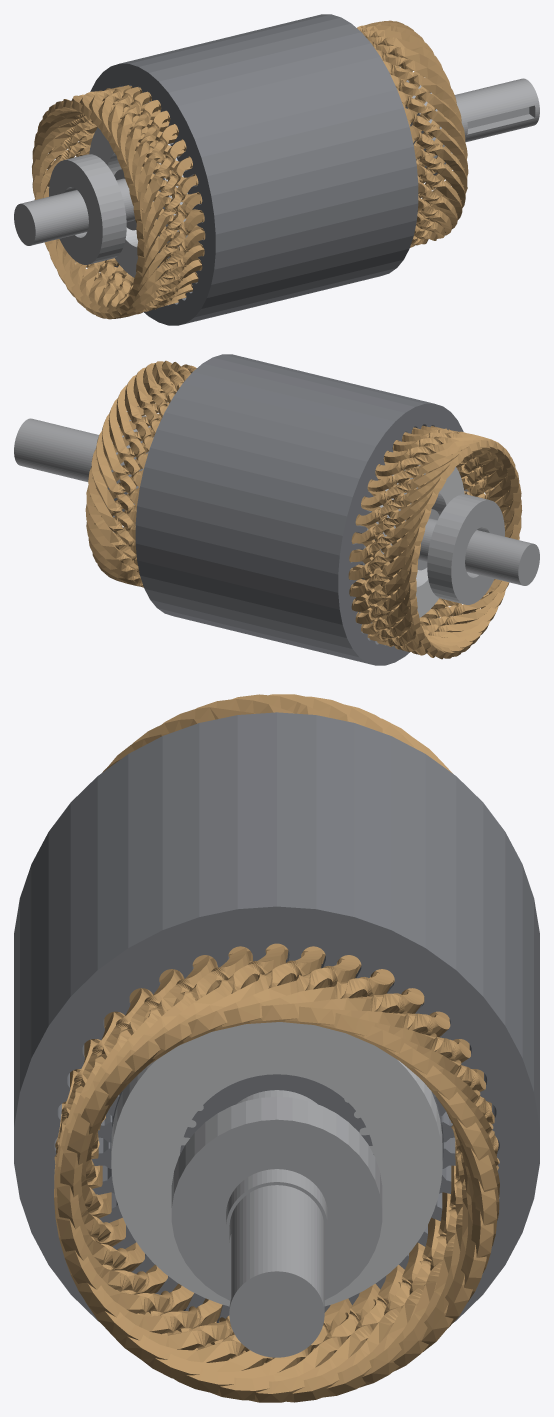
Rendered from internals.glb.
The picture shows the model from 3 angles, top to bottom: view 1: azimuth 30°, elevation 25°; view 2: azimuth 150°, elevation 25°; view 3: azimuth 270°, elevation 25°; orthographic projection. The views are drawn at different scales.
Visible parts, largest first — view 1: Stator_Core, Shaft, Bearing_NDE, Coil_03, Coil_02, Coil_04, Coil_05, Coil_01_short, Coil_06, Coil_36, Coil_07, Coil_08 (+18 smaller); view 2: Stator_Core, Shaft, Bearing_NDE, Coil_27, Coil_26, Coil_28, Coil_25, Coil_29, Coil_24, Coil_30, Coil_31, Coil_23 (+17 smaller); view 3: Stator_Core, EndRing_DE, Bearing_DE, Shaft, Rotor_Core, Coil_34, Coil_36, Coil_35, Coil_33, Coil_01_short, Coil_04, Coil_13 (+29 smaller).
Part boxes in pixels (bbox=[...]): Stator_Core: bbox=[90, 14, 418, 325]; Shaft: bbox=[14, 78, 539, 245]; Bearing_NDE: bbox=[49, 154, 126, 264]; Coil_03: bbox=[133, 74, 465, 261]; Coil_02: bbox=[129, 61, 461, 250]; Coil_04: bbox=[136, 90, 467, 272]; Coil_05: bbox=[137, 107, 468, 274]; Coil_01_short: bbox=[123, 50, 456, 234]; Coil_06: bbox=[136, 126, 467, 278]; Coil_36: bbox=[115, 41, 450, 219]; Coil_07: bbox=[133, 145, 465, 291]; Coil_08: bbox=[128, 163, 462, 299]; Stator_Core: bbox=[135, 354, 468, 665]; Shaft: bbox=[14, 418, 539, 585]; Bearing_NDE: bbox=[427, 494, 504, 604]; Coil_27: bbox=[96, 402, 431, 580]; Coil_26: bbox=[91, 413, 425, 596]; Coil_28: bbox=[102, 392, 438, 562]; Coil_25: bbox=[88, 427, 420, 611]; Coil_29: bbox=[108, 384, 446, 543]; Coil_24: bbox=[86, 437, 417, 624]; Coil_30: bbox=[116, 377, 454, 525]; Coil_31: bbox=[124, 371, 463, 508]; Coil_23: bbox=[85, 453, 416, 634]; Stator_Core: bbox=[14, 712, 539, 1322]; EndRing_DE: bbox=[111, 1022, 442, 1306]; Bearing_DE: bbox=[171, 1096, 382, 1300]; Shaft: bbox=[226, 1090, 327, 1357]; Rotor_Core: bbox=[112, 1074, 441, 1154]; Coil_34: bbox=[179, 699, 359, 1045]; Coil_36: bbox=[98, 719, 285, 1323]; Coil_35: bbox=[148, 707, 322, 1065]; Coil_33: bbox=[212, 694, 393, 1031]; Coil_01_short: bbox=[91, 733, 249, 1158]; Coil_04: bbox=[60, 988, 352, 1305]; Coil_13: bbox=[113, 1069, 483, 1400].
Size of the model in its own units: 335 by 155 by 155.
